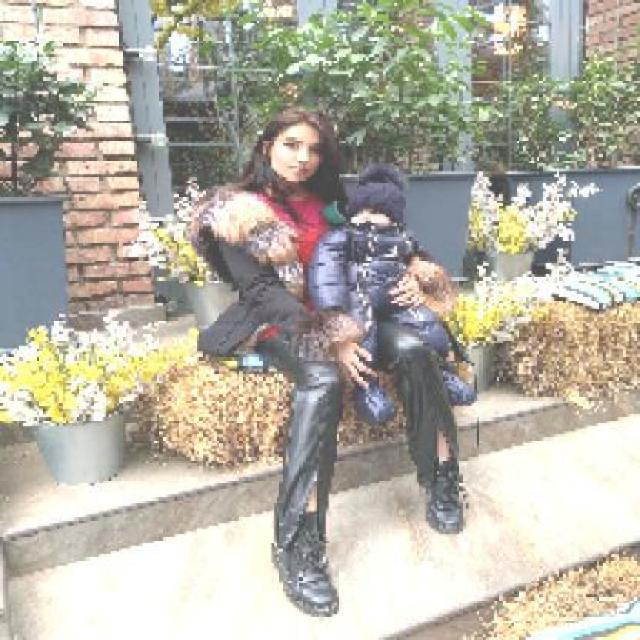child: (307, 163, 479, 426)
